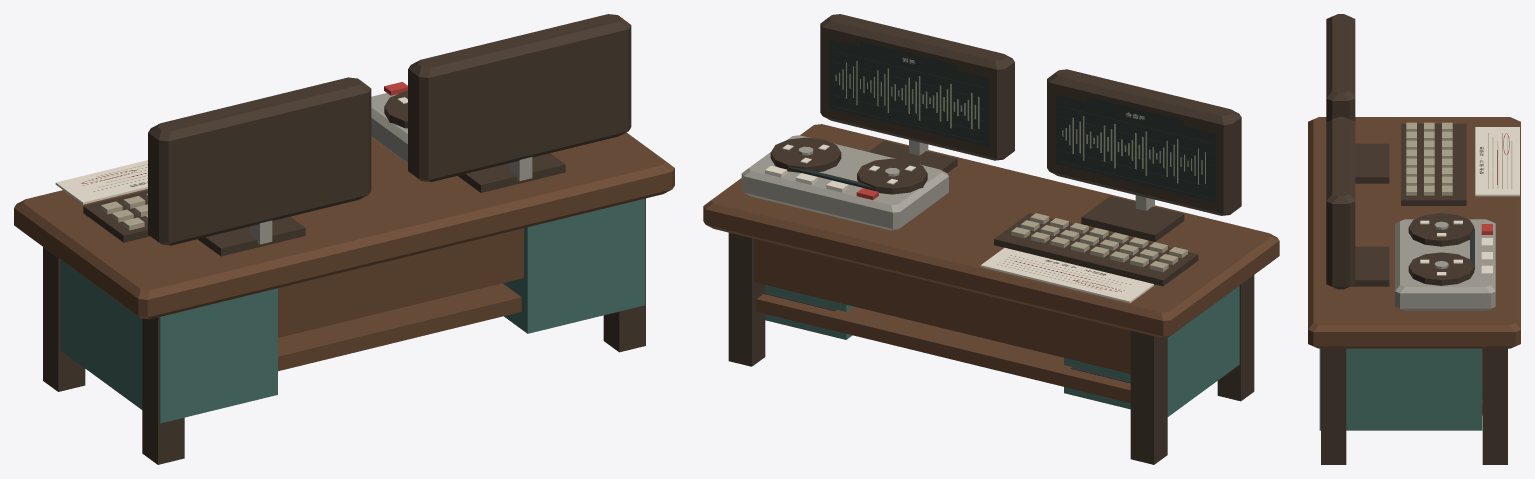
The model's file is W07_Tape_Editing_Desk.fbx.
3 views of the same model, side by side, from view 1: azimuth 30°, elevation 25°; view 2: azimuth 150°, elevation 25°; view 3: azimuth 270°, elevation 25° (orthographic). The views are drawn at different scales.
Parts seen in each view (by area): view 1: Structure, Correction_Copy, Tape_Deck, Keyboard; view 2: Structure, Tape_Deck, Monitor_01, Monitor_02, Keyboard, Correction_Copy; view 3: Structure, Tape_Deck, Keyboard, Correction_Copy.
Part boxes in pixels (left/top/right/bottom): Structure: left=14, top=14, right=674, bottom=464; Correction_Copy: left=55, top=160, right=147, bottom=204; Tape_Deck: left=371, top=82, right=407, bottom=162; Keyboard: left=83, top=190, right=149, bottom=242; Structure: left=703, top=14, right=1279, bottom=464; Tape_Deck: left=741, top=135, right=948, bottom=230; Monitor_01: left=829, top=39, right=989, bottom=147; Monitor_02: left=1056, top=95, right=1215, bottom=202; Keyboard: left=994, top=213, right=1198, bottom=286; Correction_Copy: left=980, top=247, right=1153, bottom=303; Structure: left=1308, top=14, right=1520, bottom=464; Tape_Deck: left=1395, top=213, right=1495, bottom=310; Keyboard: left=1401, top=122, right=1466, bottom=205; Correction_Copy: left=1475, top=127, right=1519, bottom=196.
Bounding box in the file's own units: 2.6 × 1.5 × 1.1.
9 materials, 1 textured.
